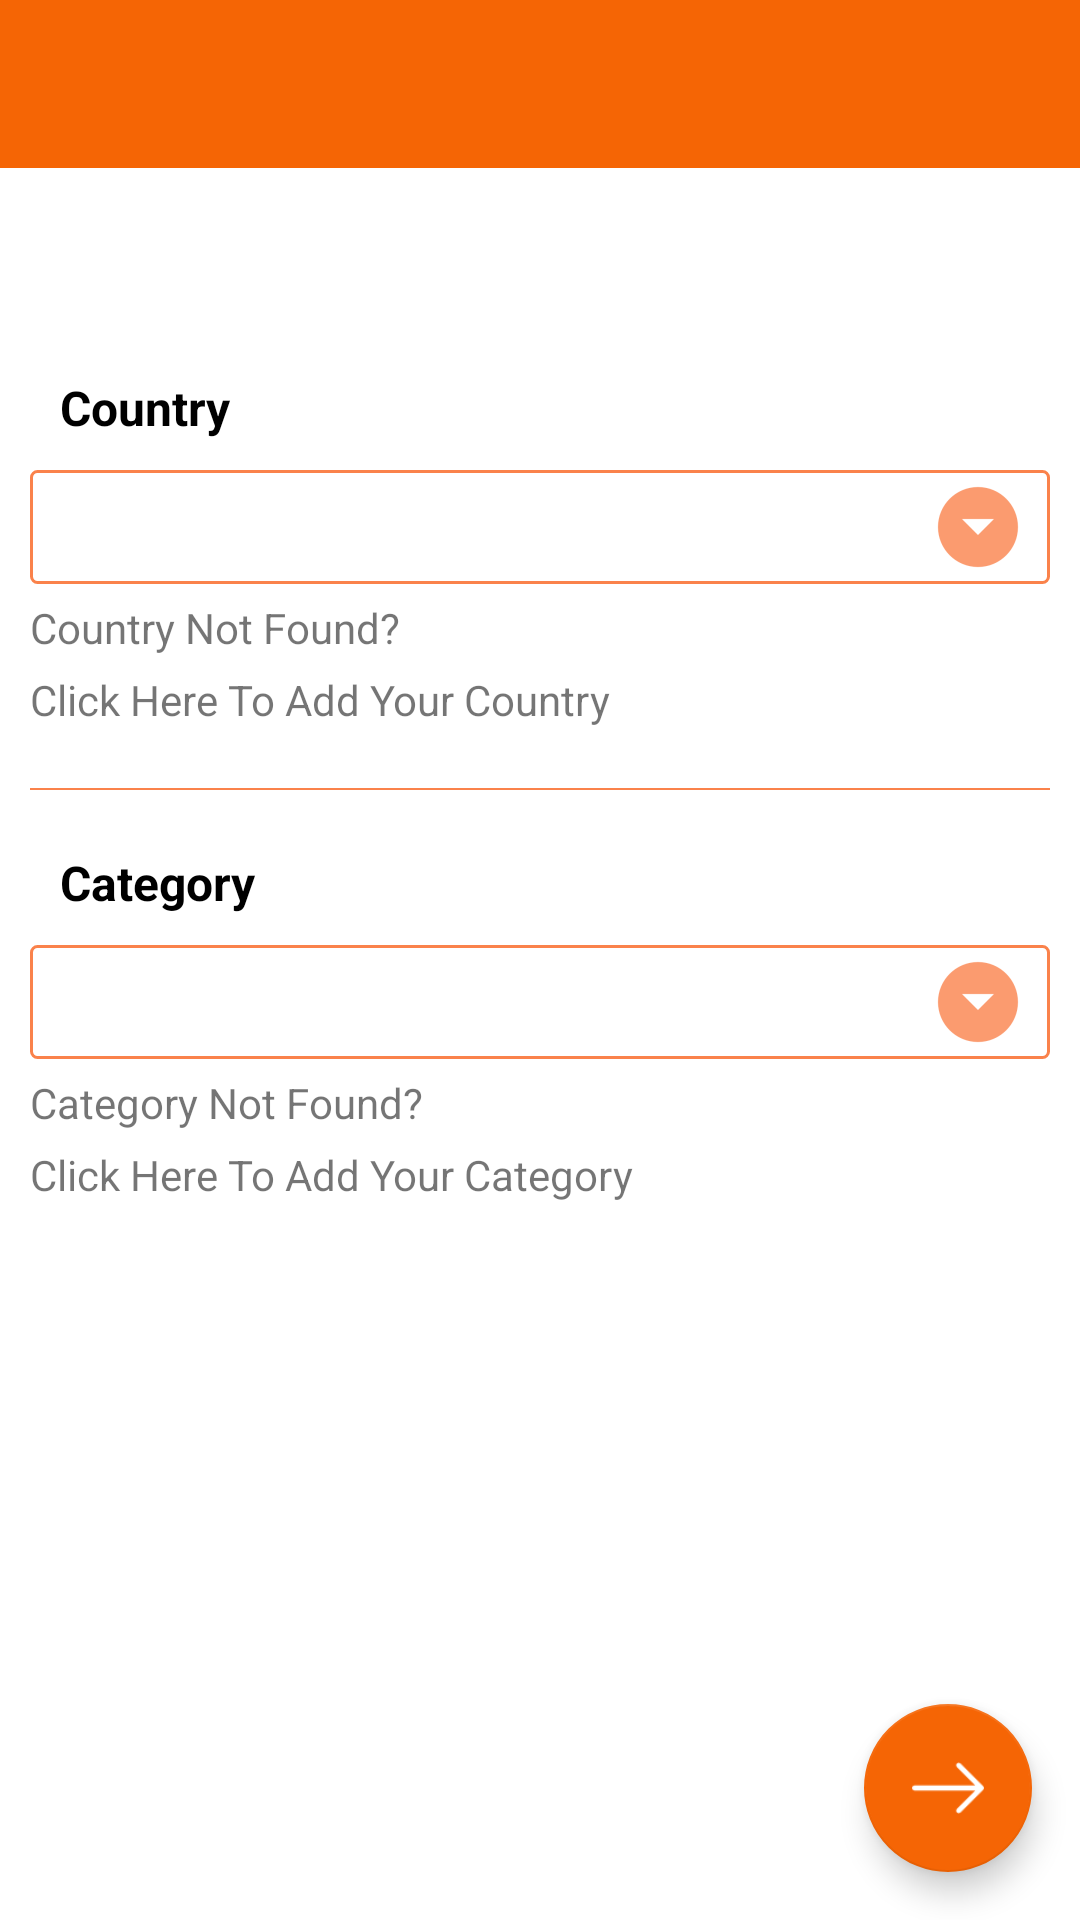

Screen size 1080px x 1920px. Icon name, then its box in pixels as [left=x1, top=y1, right=x2, bottom=y2]:
next: [left=864, top=1704, right=1032, bottom=1872]
